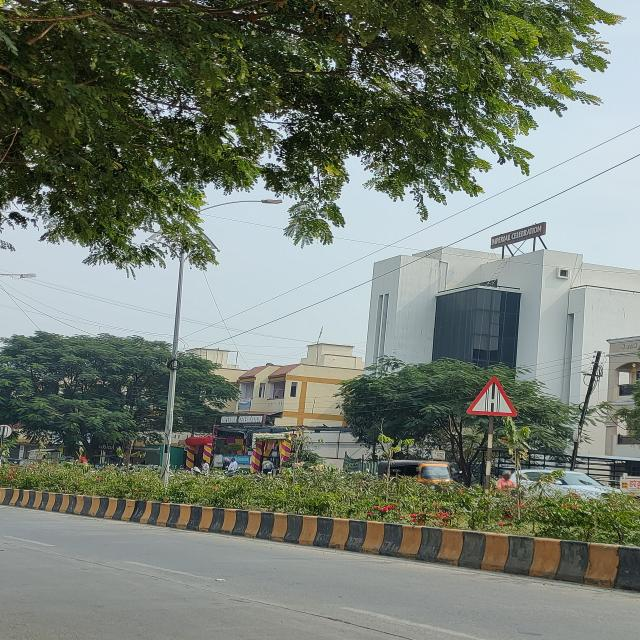GAP_IN_MEDIAN: (466, 375, 520, 416)
